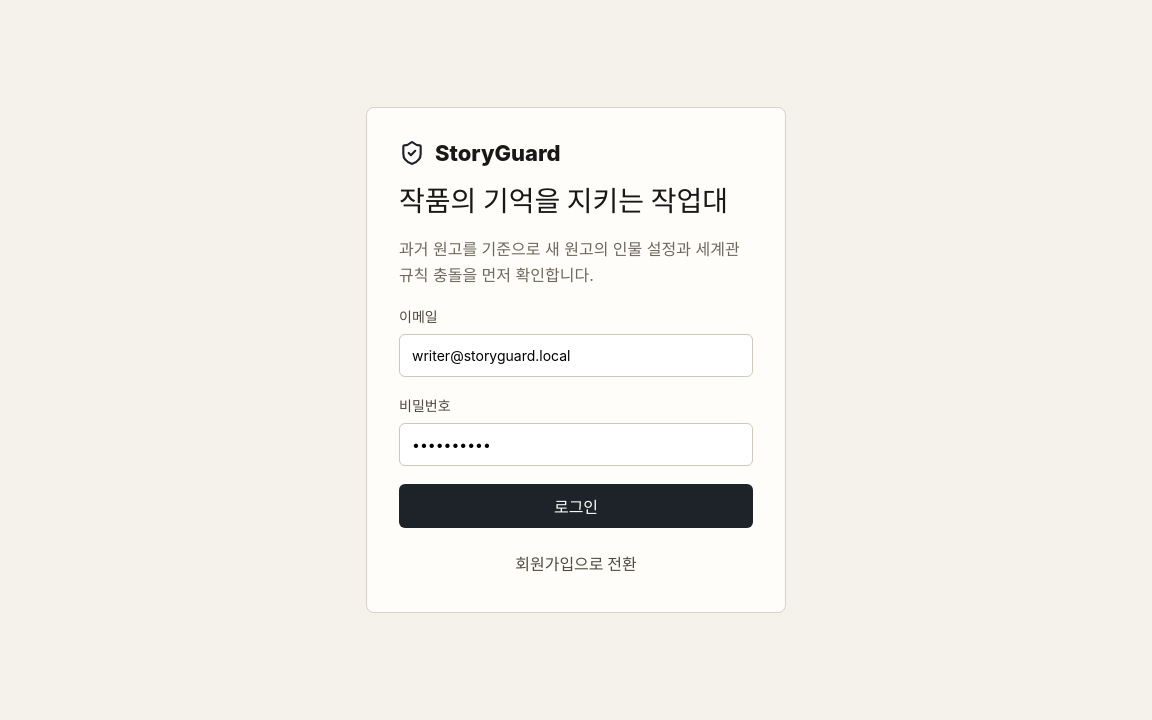
Test case: StoryGuard app › shows an empty world graph state for a project without graph data
Click the button "로그인" at point(576, 506), box [399,484,753,528]
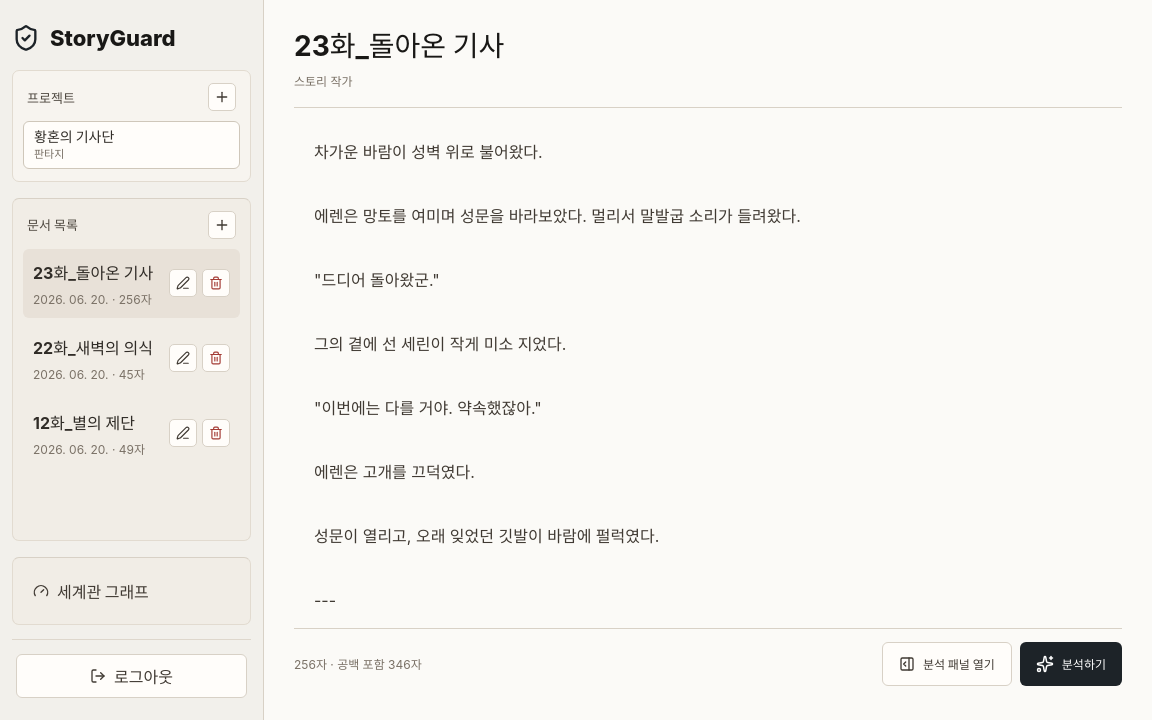
Check: the heading "23화_돌아온 기사" is shown, box [294,24,504,64]
Click the button named "프로젝트 추가" at point(222, 97), box [208,83,236,111]
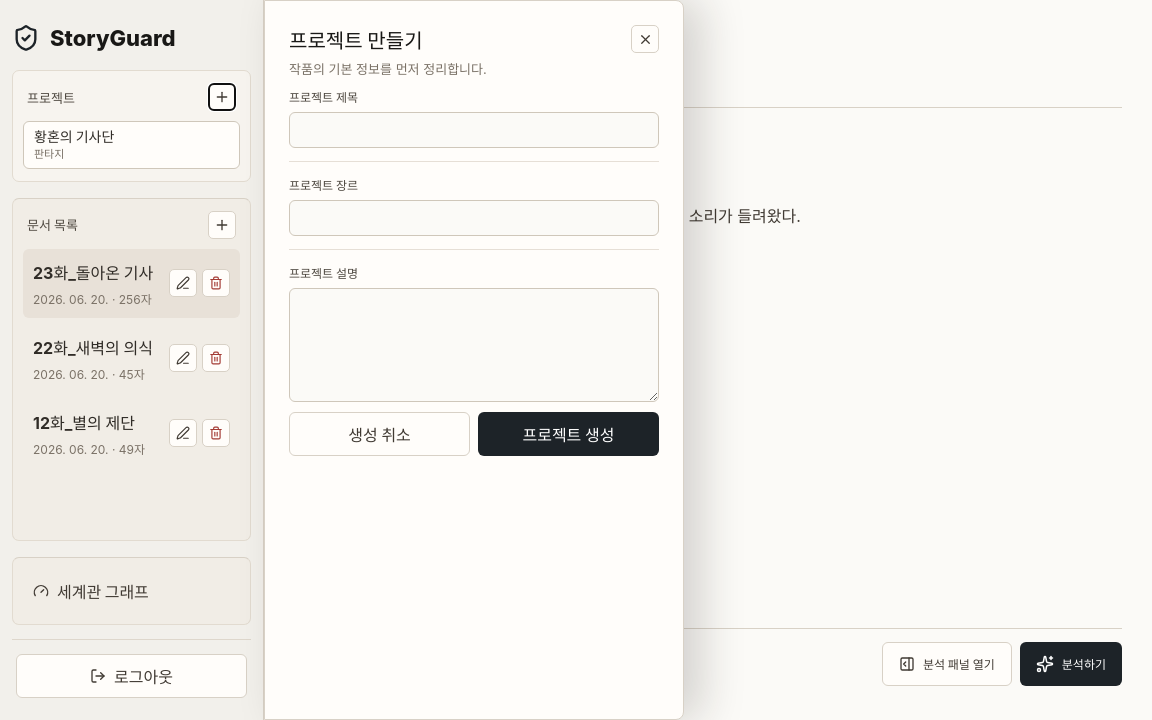
Type "빈 그래프 프로젝트" into the field labelled "프로젝트 제목" at point(474, 130), box [289,112,659,148]
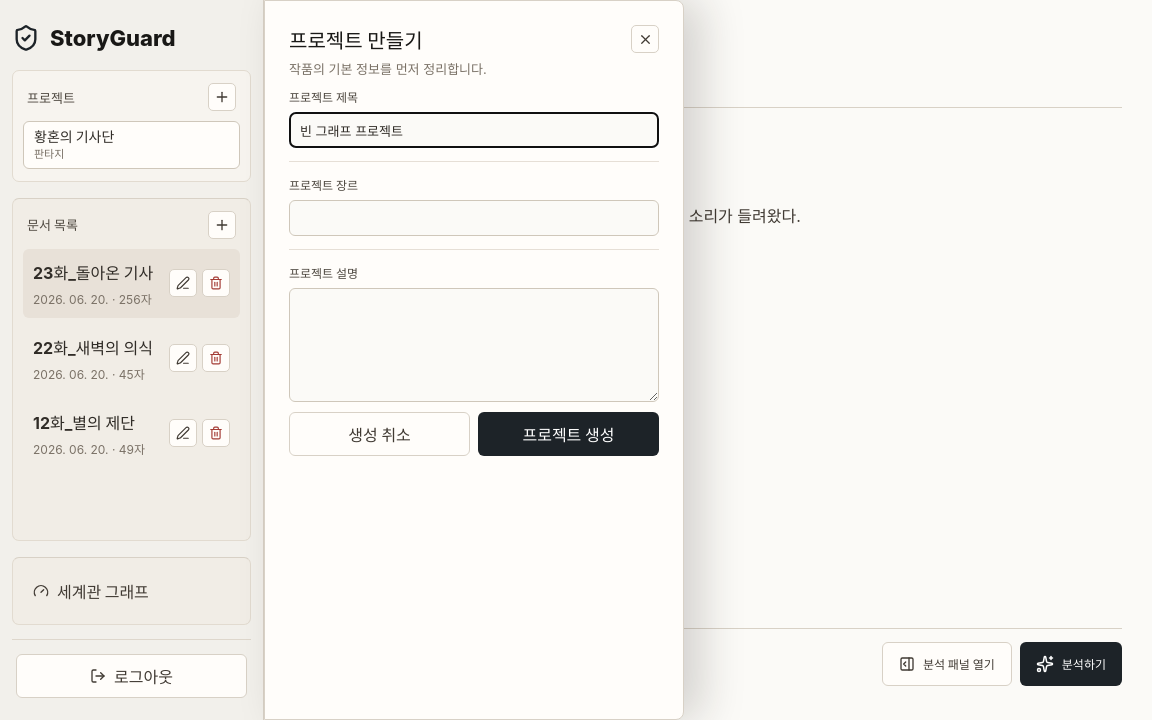
Click the button "프로젝트 생성" at point(568, 434), box [478,412,659,456]
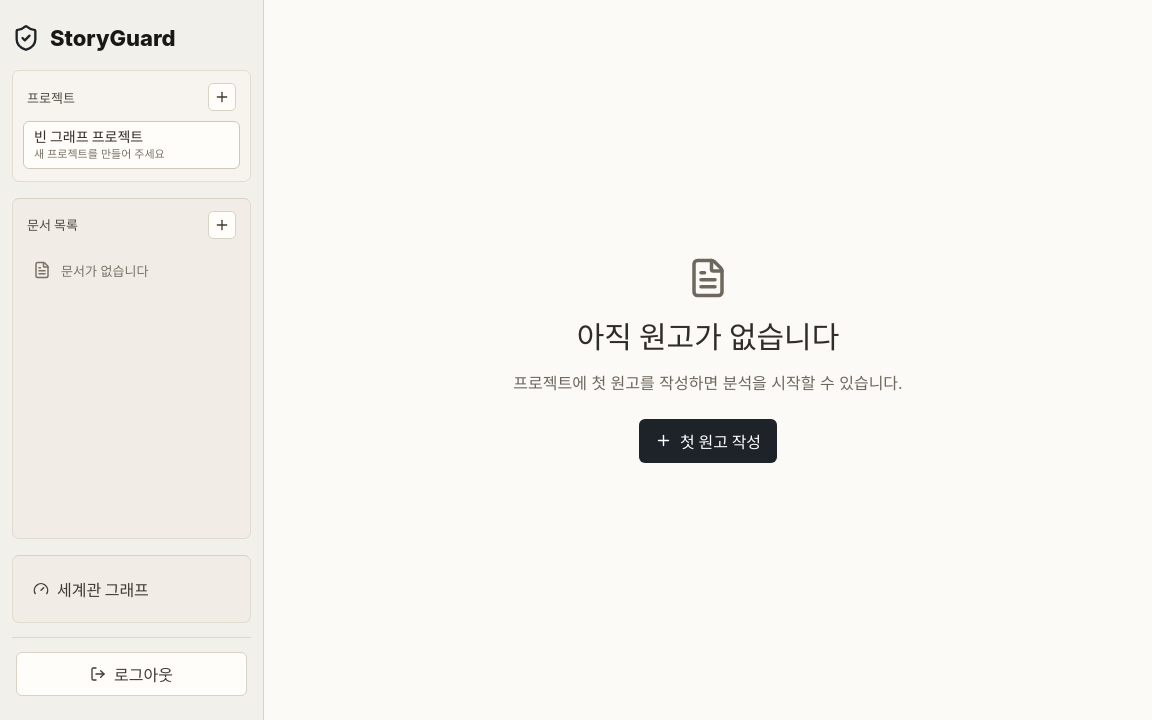
Check: the button with aria-label "프로젝트 전환" shows "빈 그래프 프로젝트", box [23,121,240,169]
Click the button "세계관 그래프" at point(132, 589), box [23,568,240,610]
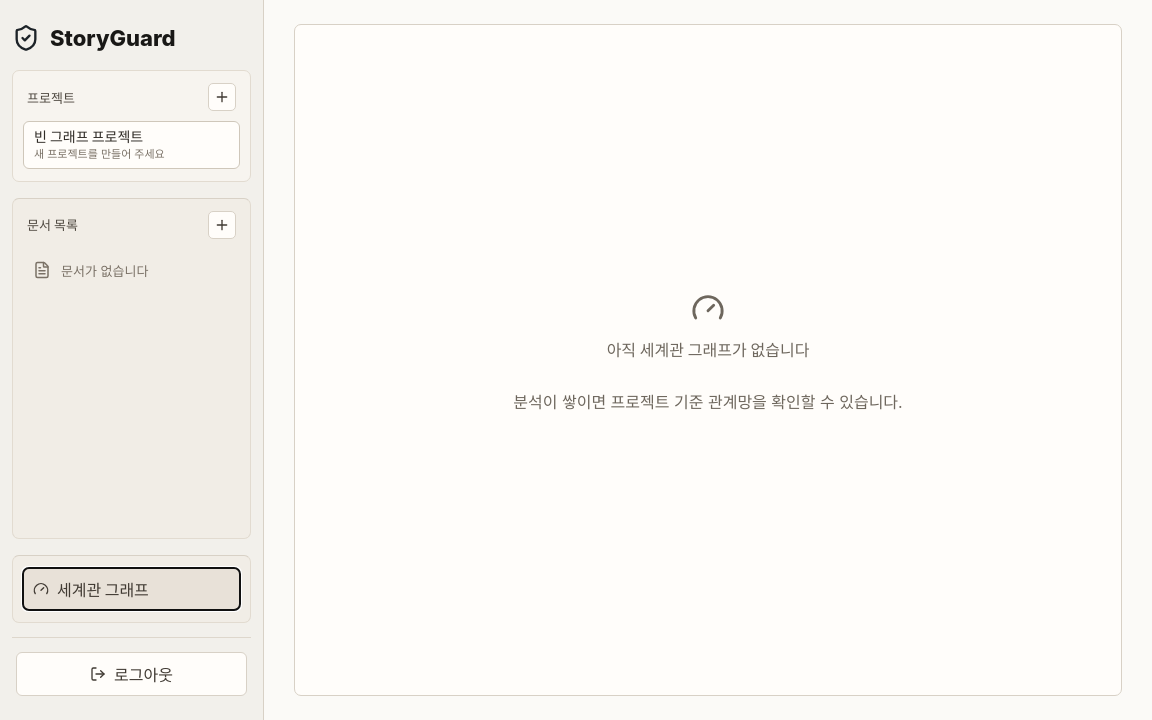
Check: the text "아직 세계관 그래프가 없습니다" is shown, box [607,337,809,361]
